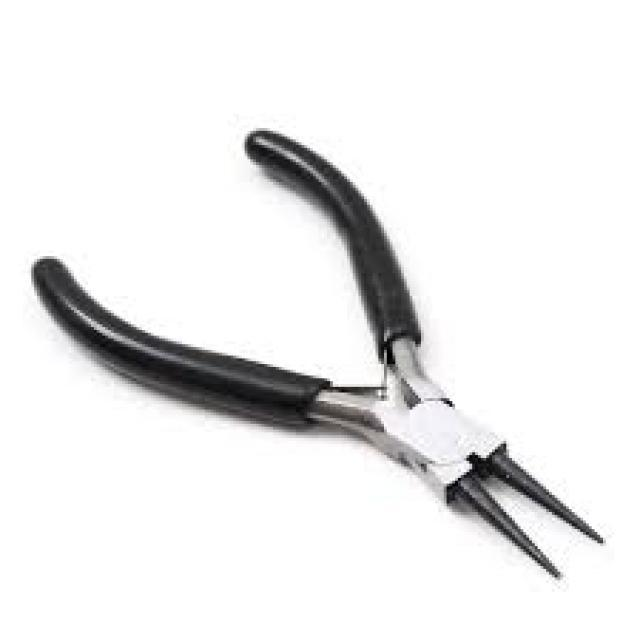pliers: (22, 124, 609, 586)
